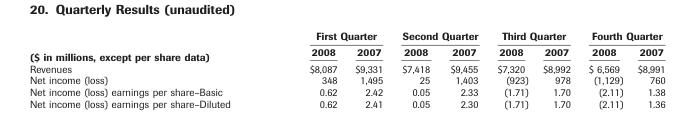table: (28, 29, 664, 109)
table column: (28, 29, 269, 109), (269, 29, 345, 109), (578, 29, 629, 109), (391, 29, 439, 109), (439, 29, 487, 109), (487, 29, 534, 109), (345, 29, 391, 109), (534, 29, 578, 109), (629, 29, 664, 109)
table column header: (28, 29, 664, 62)
table row: (28, 43, 664, 62), (28, 29, 664, 43), (28, 73, 664, 85), (28, 85, 664, 97), (28, 97, 664, 109), (28, 62, 664, 73)
table spanning cell: (28, 29, 269, 62), (269, 29, 391, 43), (391, 29, 487, 43), (487, 29, 578, 43), (578, 29, 664, 43)
